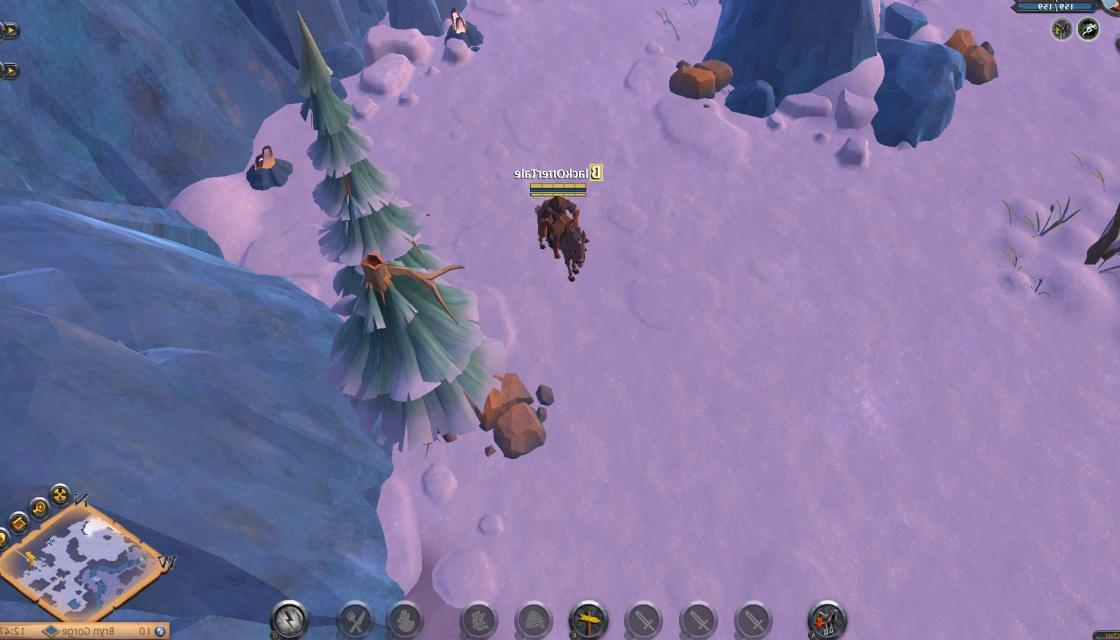copperore: (246, 136, 297, 194), (441, 5, 486, 50)
limestone: (472, 372, 550, 459), (940, 24, 1002, 87), (665, 57, 738, 100)
